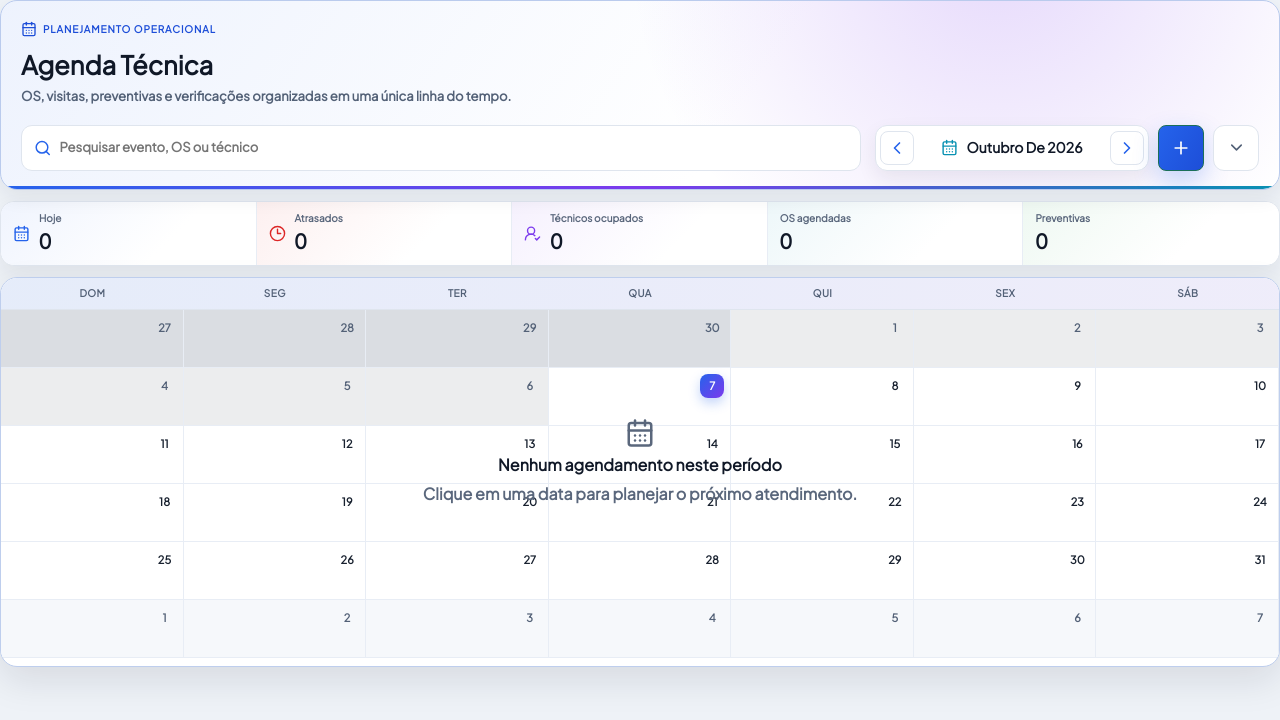
Test: TechnicalCalendarPage › renderiza a visão mensal e abre o formulário ao clicar em um dia
Expected: the heading "Agenda Técnica" is shown, [21, 48, 213, 81]
Click the 5th element with class "calendar-day-cell": (823, 339) [731, 310, 914, 368]
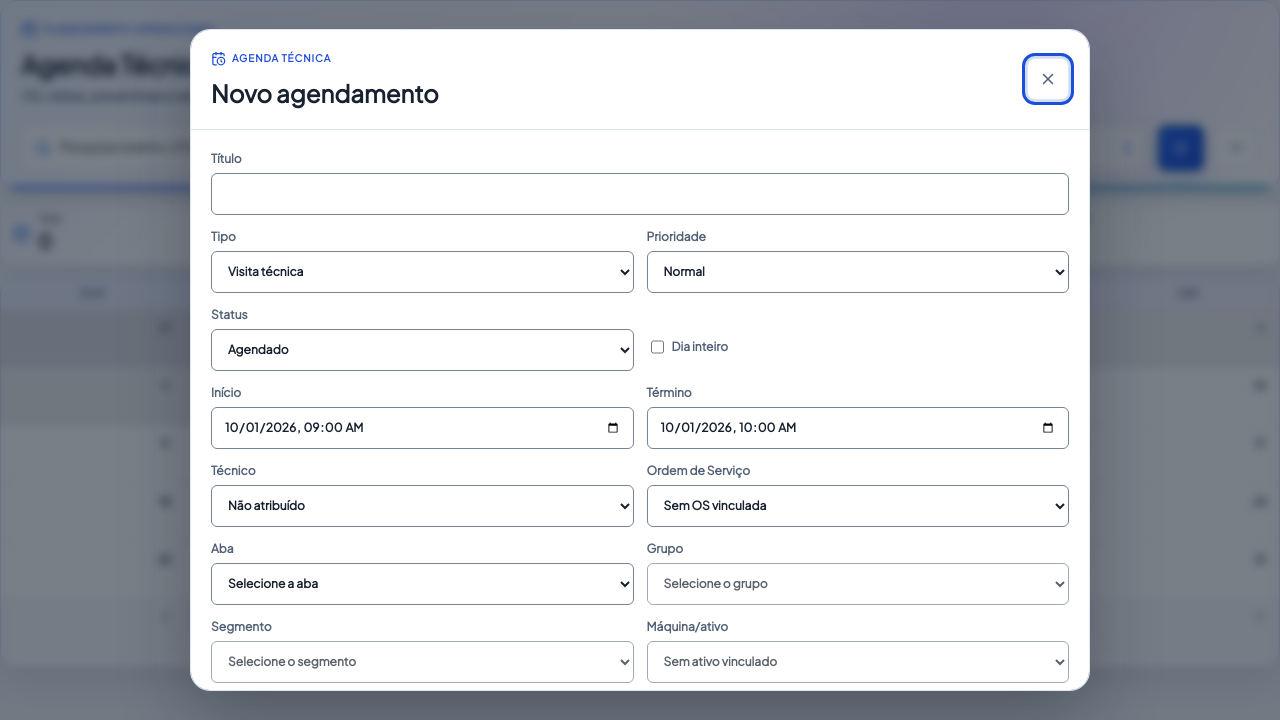
Expected: the dialog "Novo agendamento" is shown
